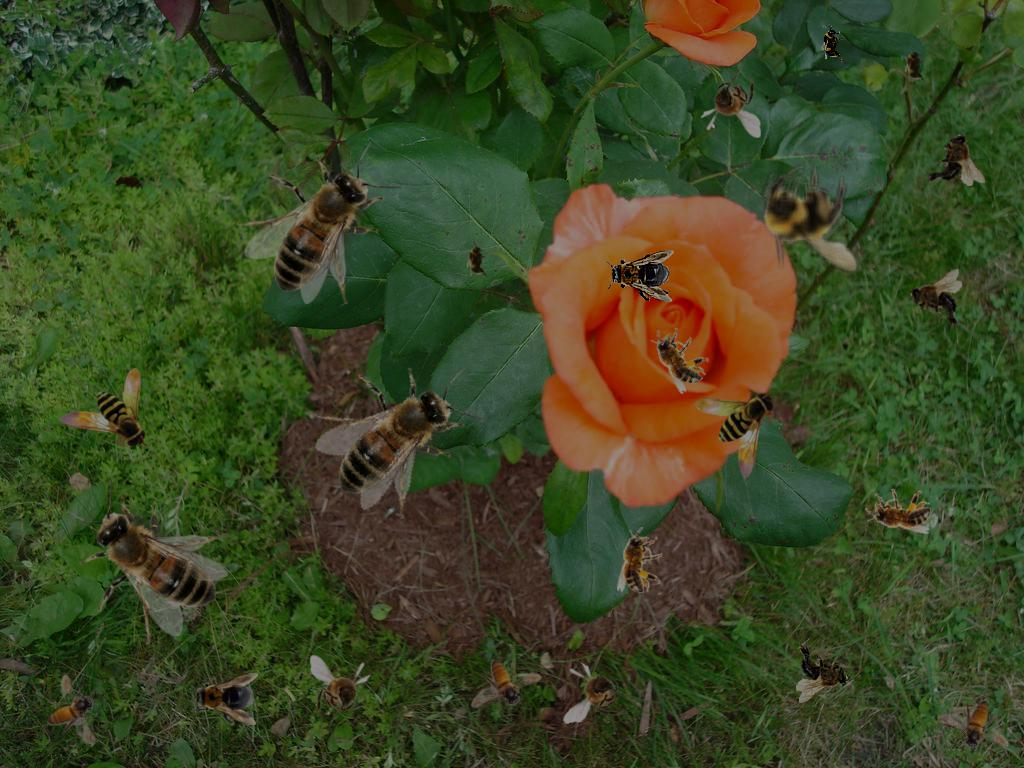Bee: (294, 335, 497, 533), (236, 142, 403, 304), (66, 478, 228, 645), (741, 152, 886, 293), (935, 683, 1021, 768), (695, 391, 777, 479), (60, 368, 148, 450), (639, 316, 717, 397), (561, 660, 634, 724), (700, 68, 761, 138), (310, 655, 371, 725), (47, 674, 97, 745), (471, 659, 542, 709), (190, 673, 258, 725), (606, 250, 674, 302), (909, 269, 962, 331), (923, 133, 985, 186), (796, 641, 849, 703), (617, 527, 662, 593), (865, 489, 931, 534), (107, 169, 151, 197), (821, 23, 843, 63), (904, 45, 926, 85), (466, 240, 488, 280)
